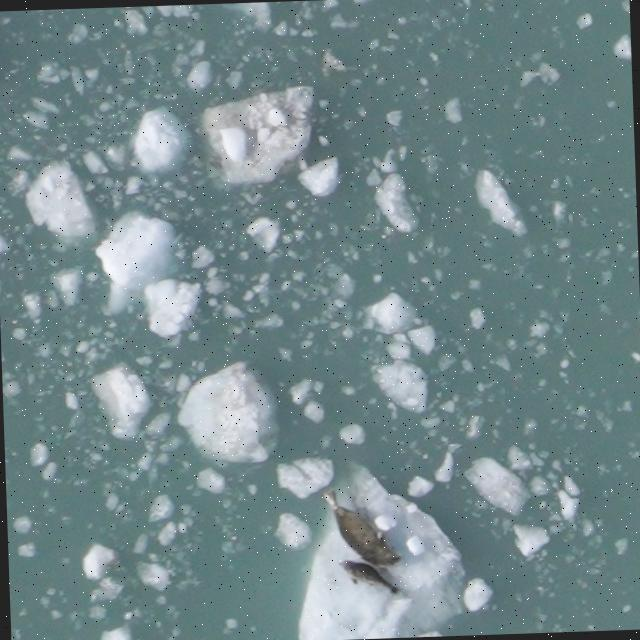seal: (319, 483, 408, 575), (334, 555, 405, 600)
